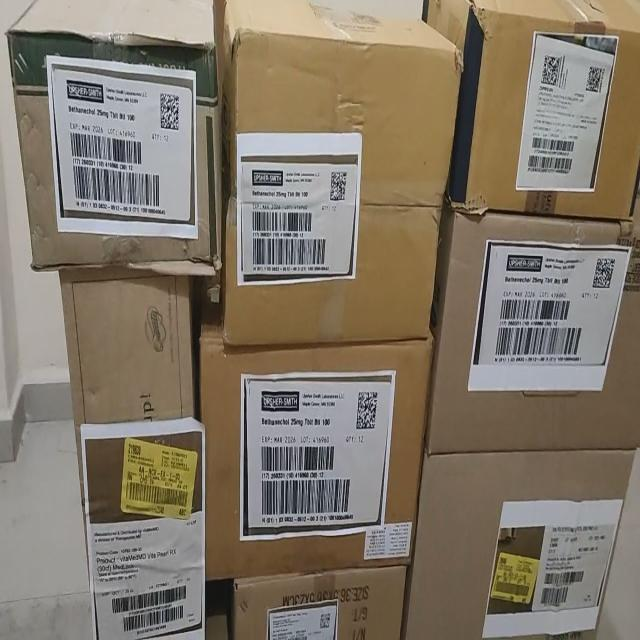BoxFace: (217, 1, 463, 346), (198, 320, 434, 581), (5, 0, 223, 278), (56, 252, 206, 638), (426, 208, 638, 453), (422, 0, 638, 223), (402, 447, 638, 638)
